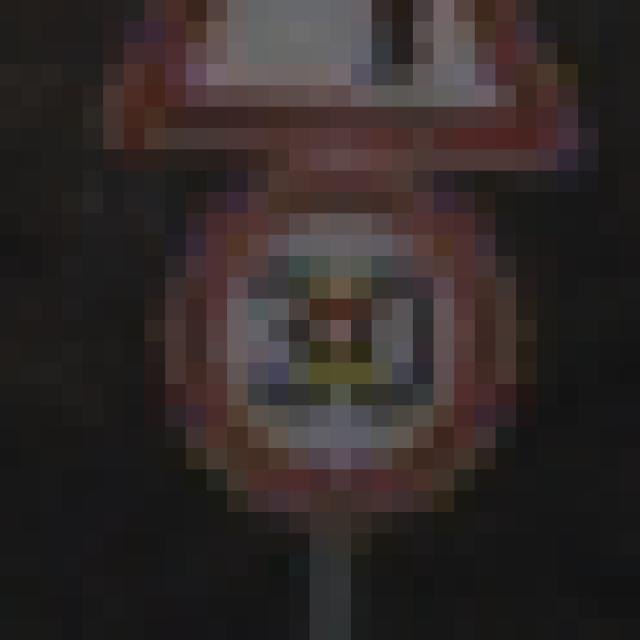Speed Limit -30-: (114, 96, 526, 501)
